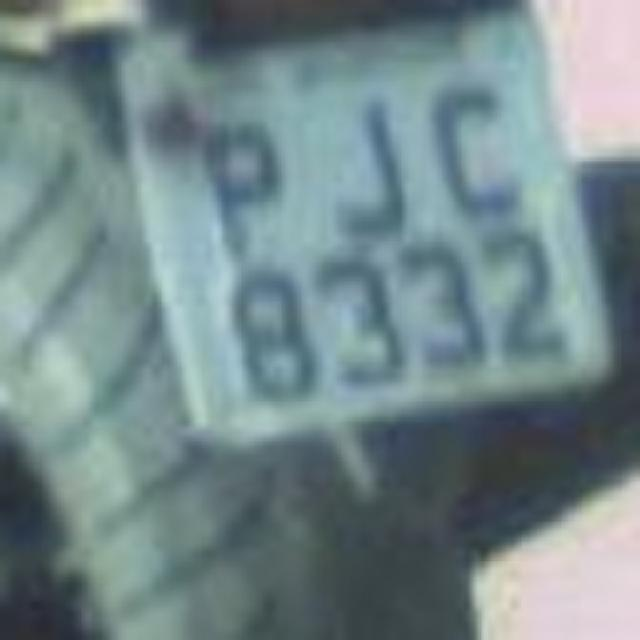2: (465, 205, 580, 380)
3: (372, 224, 508, 388), (295, 232, 420, 400)
8: (216, 244, 329, 424)
C: (428, 76, 532, 216)
J: (320, 88, 428, 248)
P: (168, 104, 300, 264)
